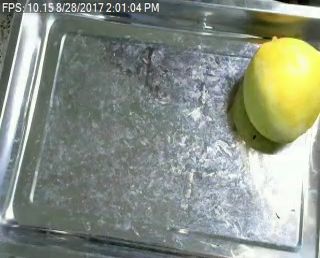Mango: (243, 36, 320, 142)
